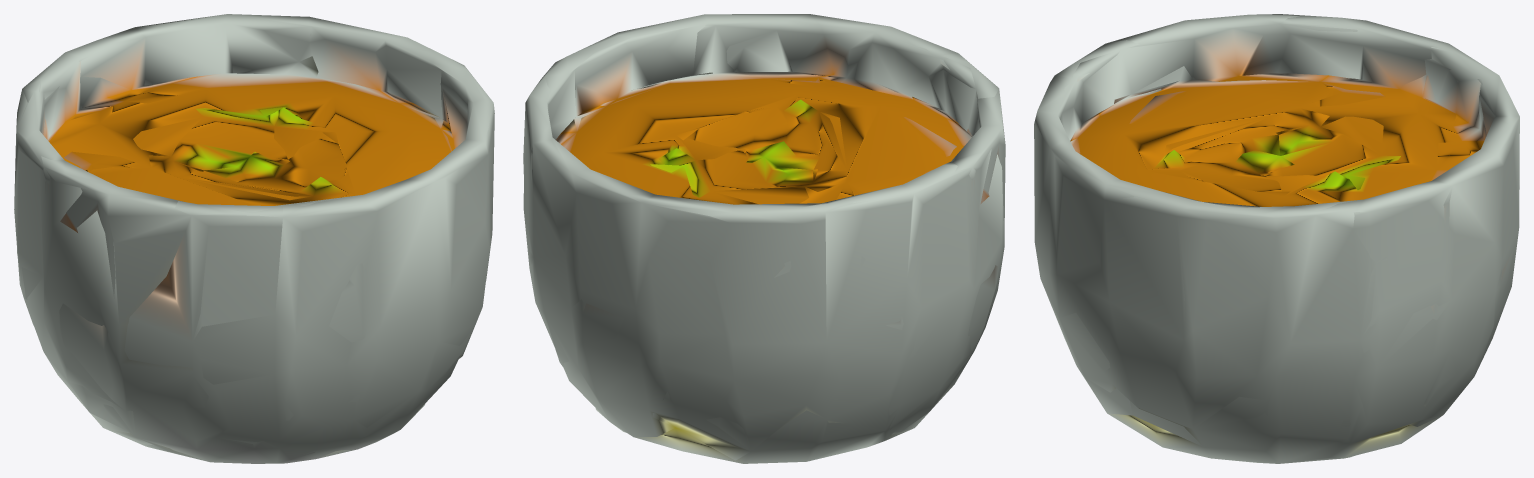
Rendered from gen3d-soup-lod0.glb.
The picture shows the model from 3 angles, left to right: view 1: azimuth 30°, elevation 25°; view 2: azimuth 150°, elevation 25°; view 3: azimuth 270°, elevation 25°; orthographic projection.
Visible parts, largest first — view 1: part_0; view 2: part_0; view 3: part_0.
Boxes of the visible parts, x1,y1,x2,y2 form: part_0: (14,14,494,463); part_0: (523,14,1005,463); part_0: (1034,14,1519,463).
Bounding box in the file's own units: 1.55 × 0.9967 × 1.55.
